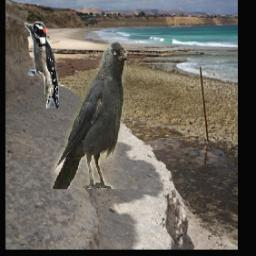Crow: (51, 42, 127, 190)
Woodpecker: (25, 21, 59, 108)
